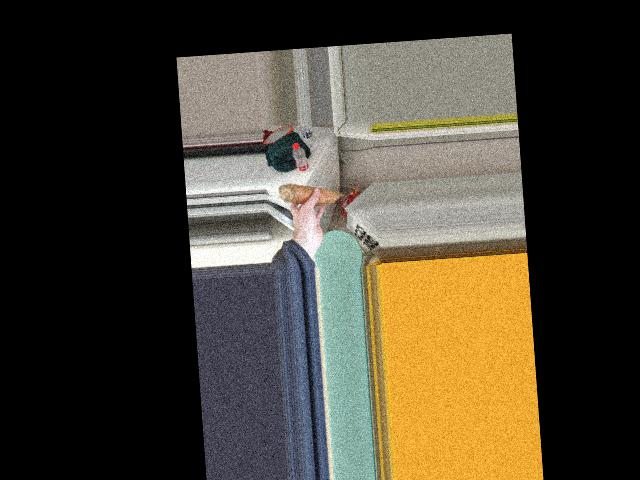sweet_potato: (278, 185, 342, 206)
